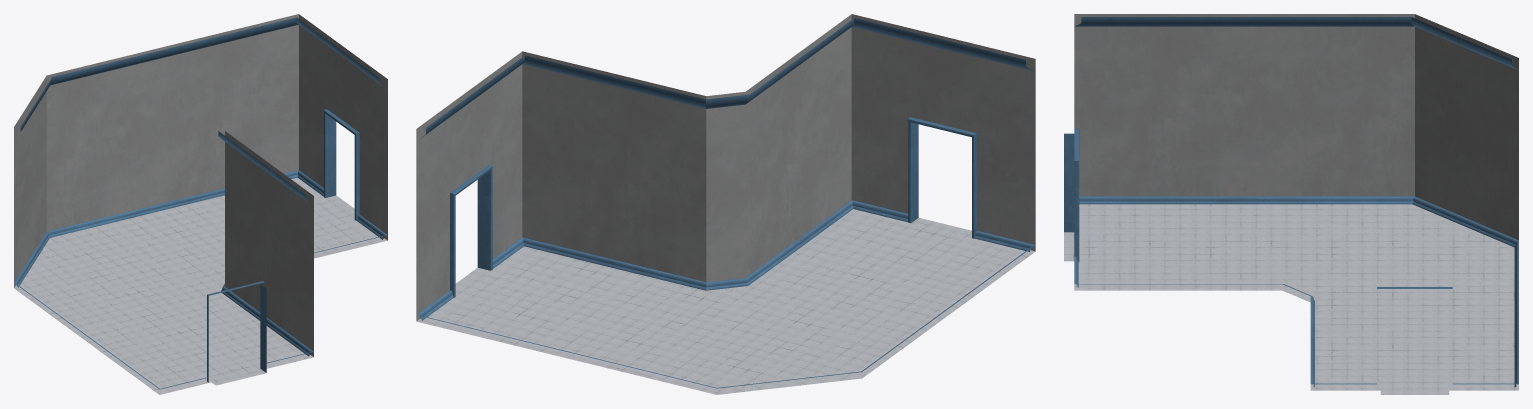
The model's file is PZ_room2C.glb.
The picture shows the model from 3 angles, left to right: view 1: azimuth 30°, elevation 25°; view 2: azimuth 150°, elevation 25°; view 3: azimuth 270°, elevation 25°; orthographic projection. The views are drawn at different scales.
Parts seen in each view (by area): view 1: PZ_HallwayL; view 2: PZ_HallwayL; view 3: PZ_HallwayL.
Boxes of the visible parts, x1,y1,x2,y2 form: PZ_HallwayL: [14, 14, 387, 394]; PZ_HallwayL: [416, 14, 1035, 394]; PZ_HallwayL: [1064, 14, 1518, 394].
Size of the model in its own units: 13.28 by 6.08 by 13.28.
Materials: 3 (3 with a texture image).
